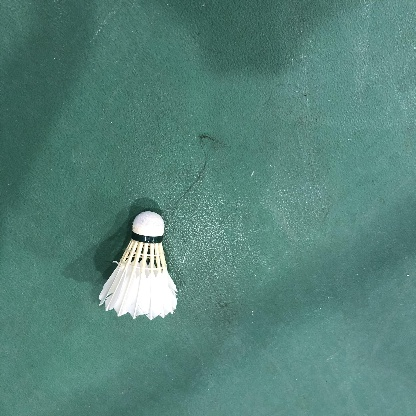ball_single: (99, 211, 178, 320)
